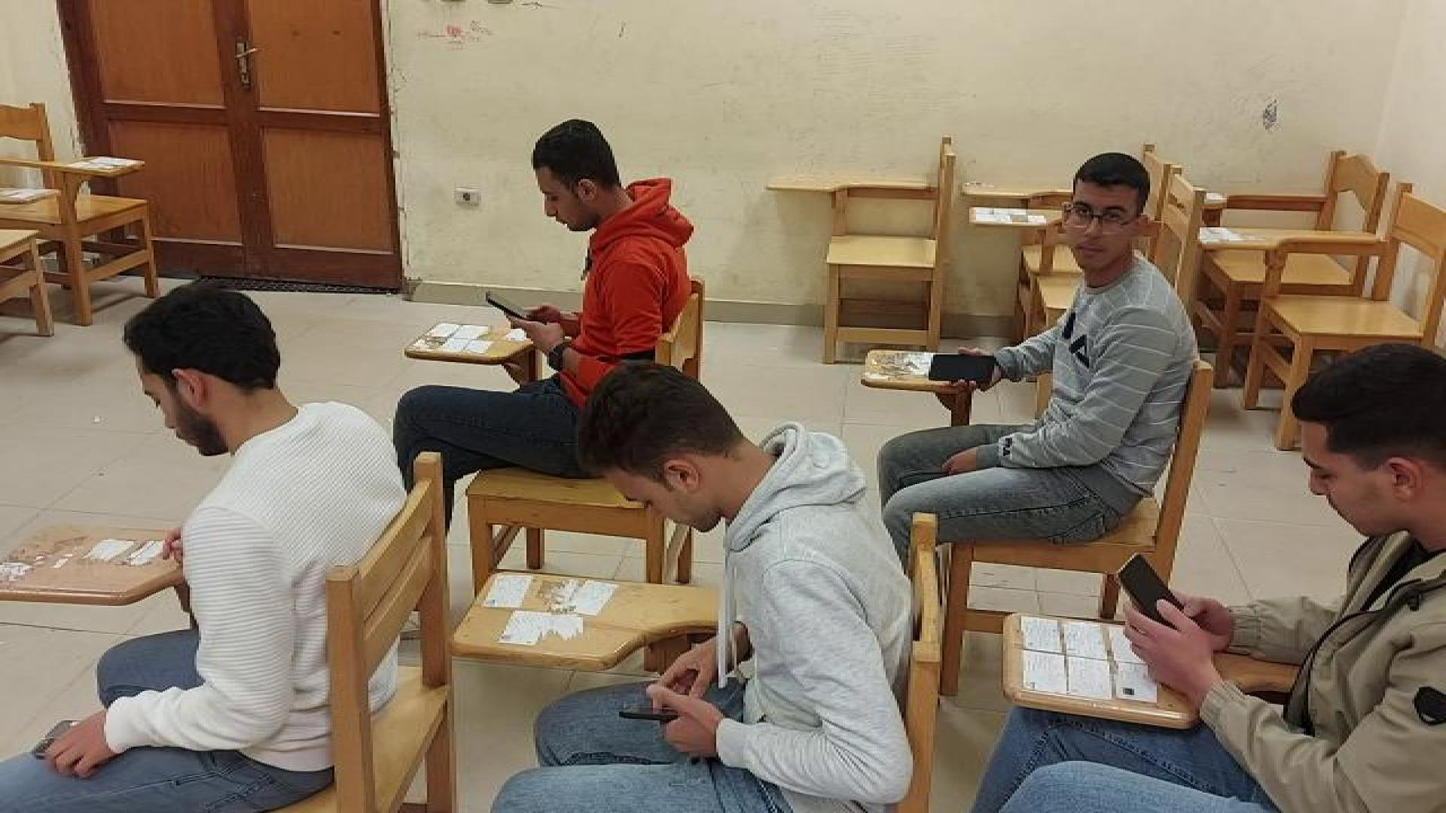phone: (1106, 548, 1190, 624), (32, 719, 120, 761), (918, 352, 1000, 391), (482, 288, 528, 324), (609, 704, 683, 725)
